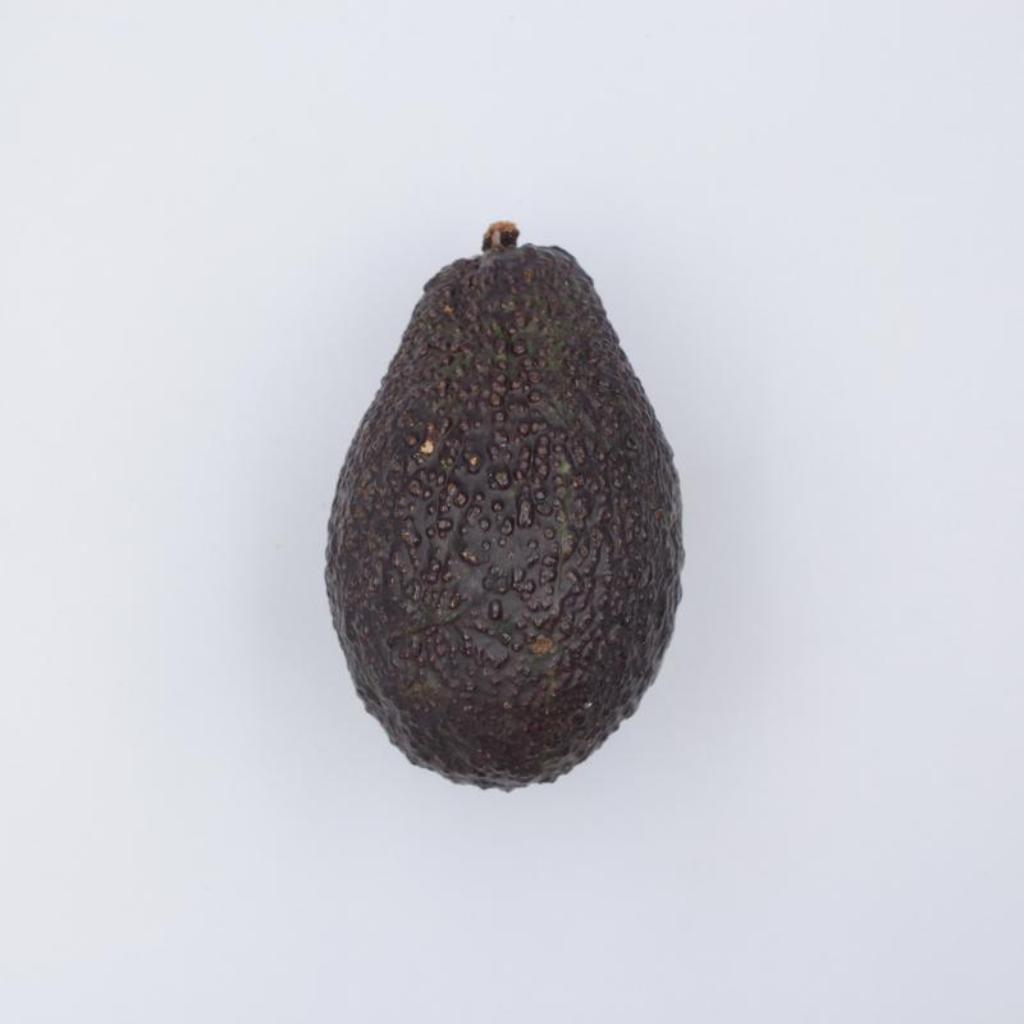antracnosis_fruto: (325, 224, 684, 788)
